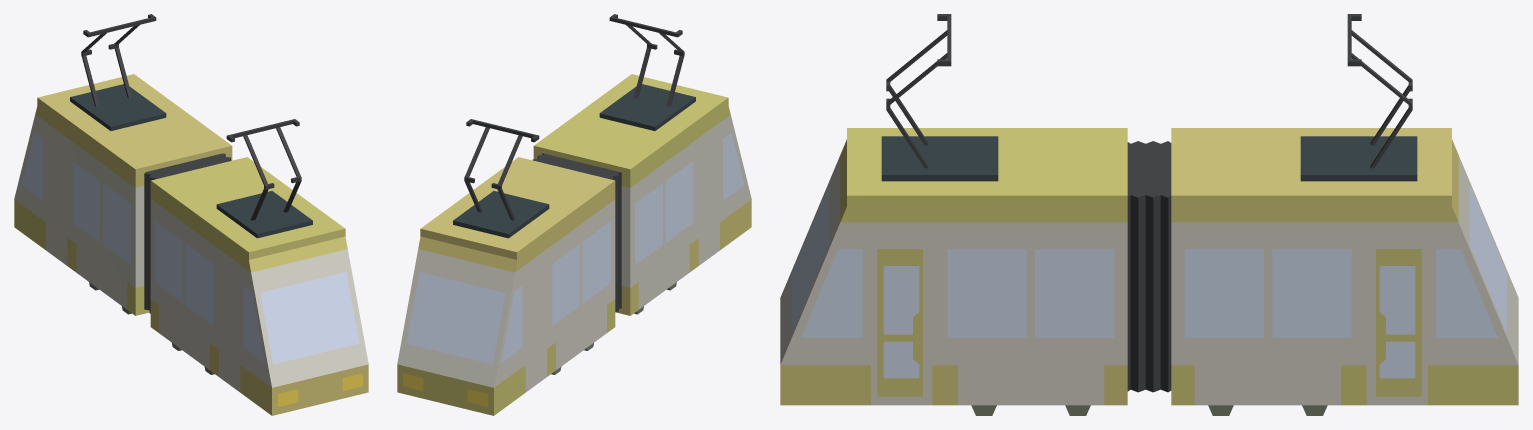
File: subway_2.glb
3 views of the same model, side by side, from view 1: azimuth 30°, elevation 25°; view 2: azimuth 150°, elevation 25°; view 3: azimuth 270°, elevation 25° (orthographic). The views are drawn at different scales.
Visible parts, largest first — view 1: Tram_4; view 2: Tram_4; view 3: Tram_4.
Part boxes in pixels (left/top/right/bottom): Tram_4: left=14, top=14, right=368, bottom=415; Tram_4: left=397, top=14, right=751, bottom=415; Tram_4: left=780, top=14, right=1518, bottom=415.
Bounding box in the file's own units: 0.219 × 0.5285 × 1.01.
Materials: 1 (1 with a texture image).
